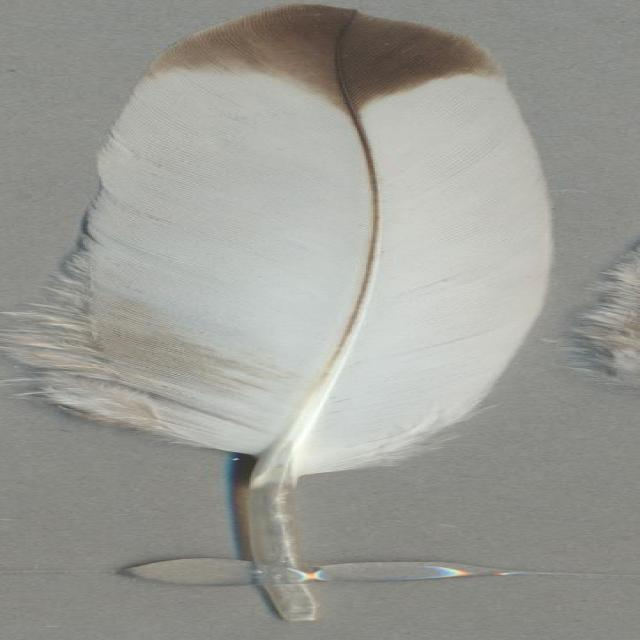feather: (0, 3, 559, 623)
